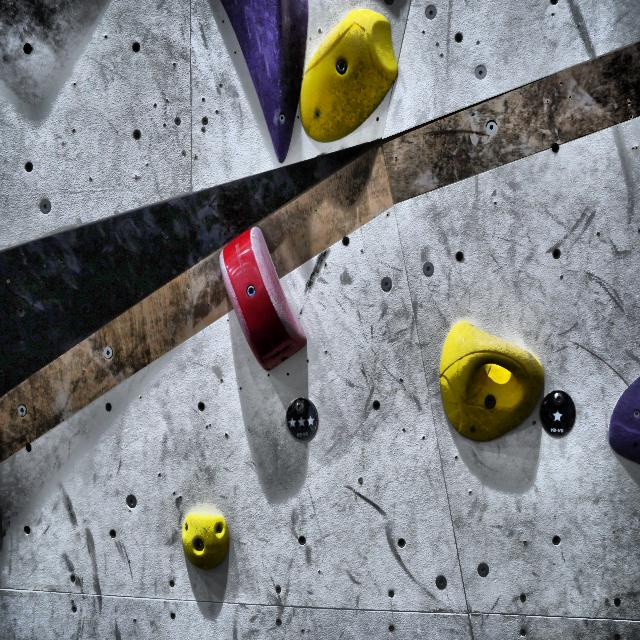Hold: (434, 303, 546, 455), (210, 224, 317, 380), (299, 0, 405, 154), (600, 352, 640, 476), (178, 500, 228, 580)
